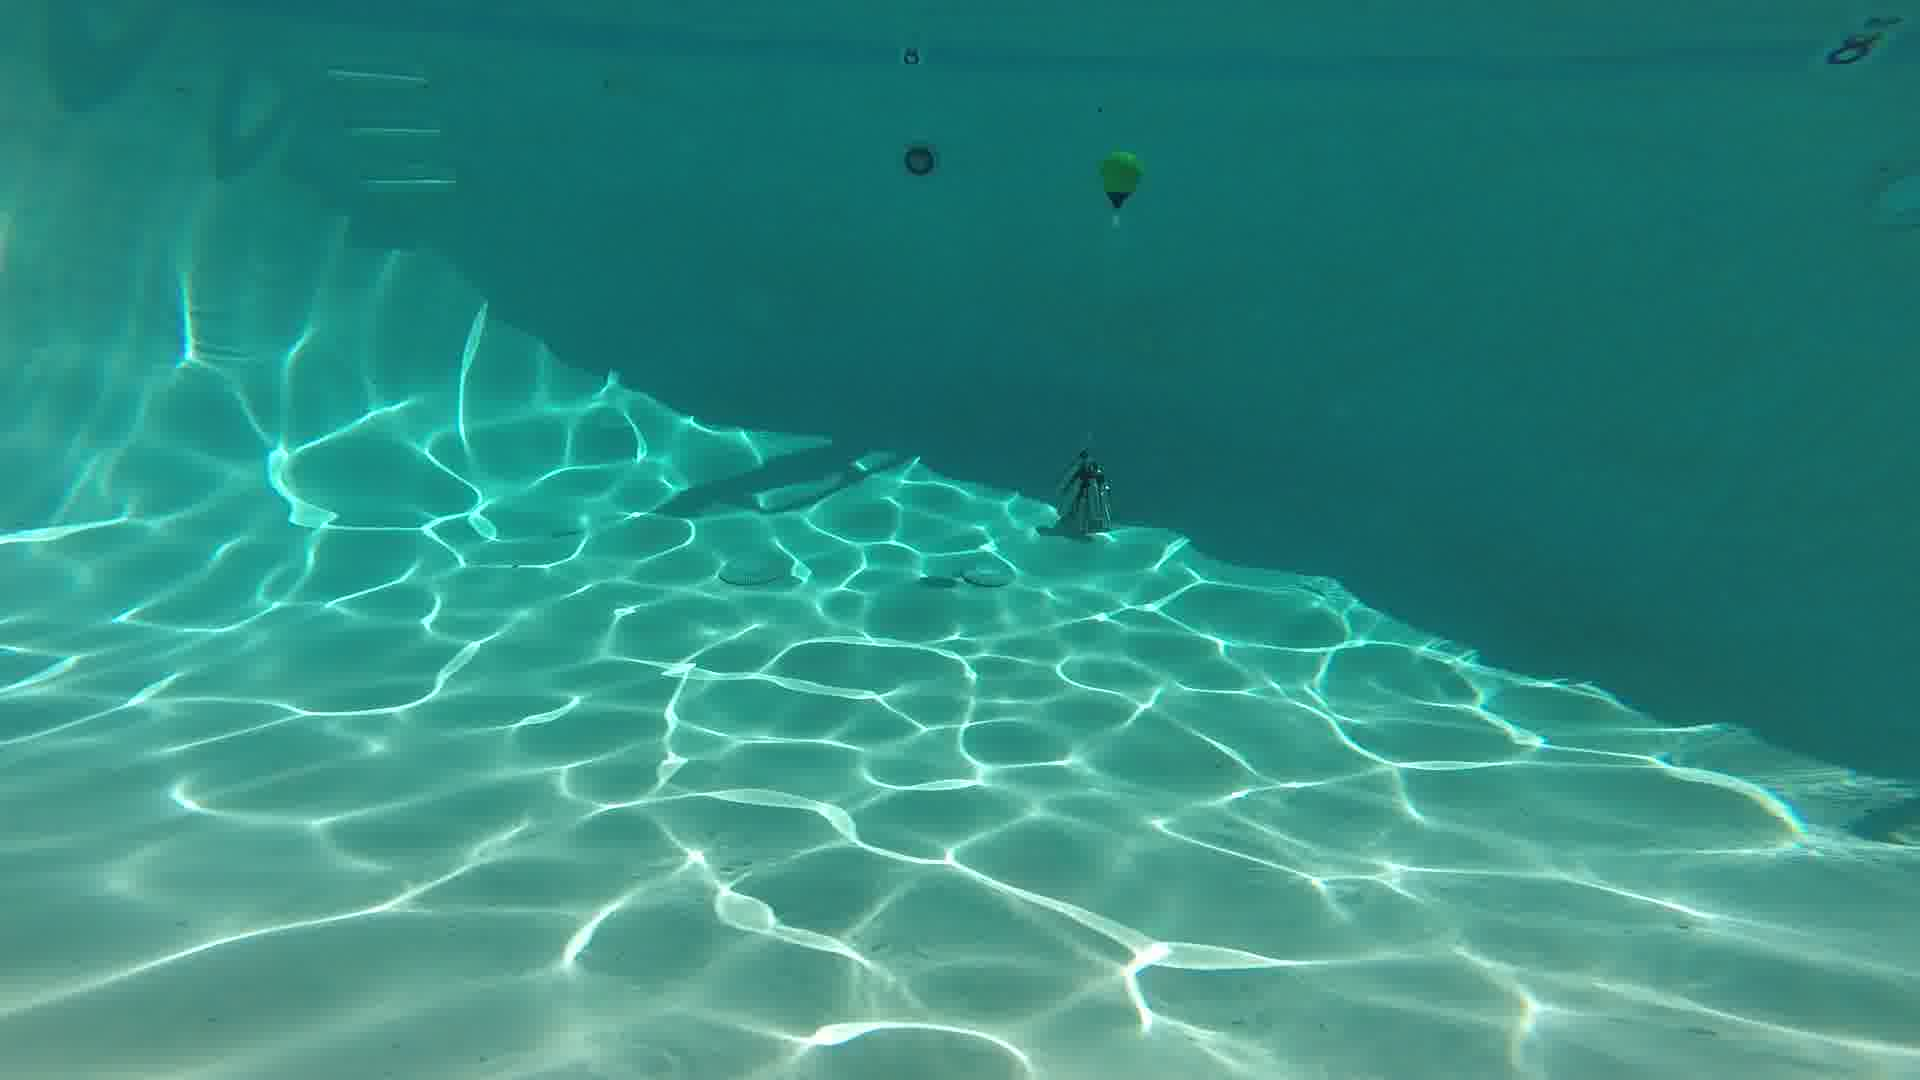yellow_buoy: (1100, 152, 1141, 208)
